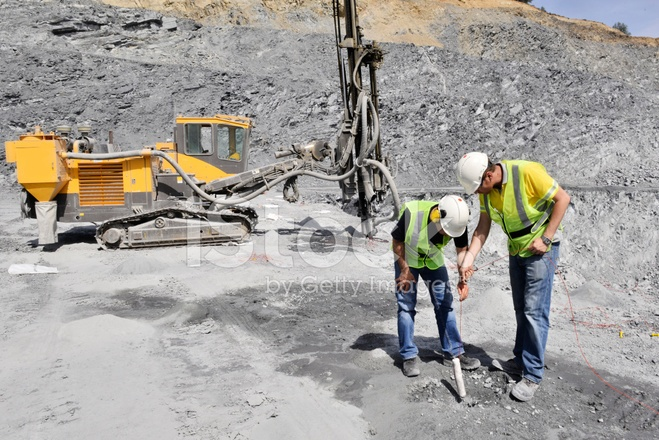white: (454, 151, 495, 198), (430, 194, 470, 241)
